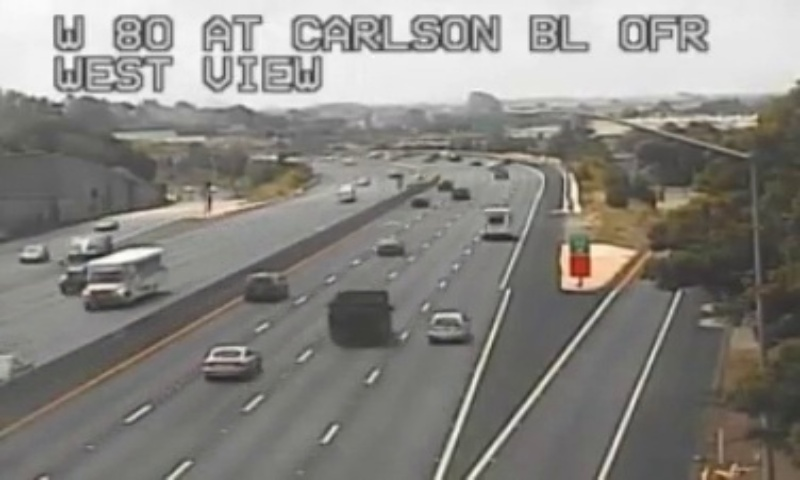bus: (482, 207, 512, 238)
car: (200, 344, 257, 378), (242, 272, 289, 303), (427, 310, 468, 344)
small-truck: (329, 290, 389, 344)
